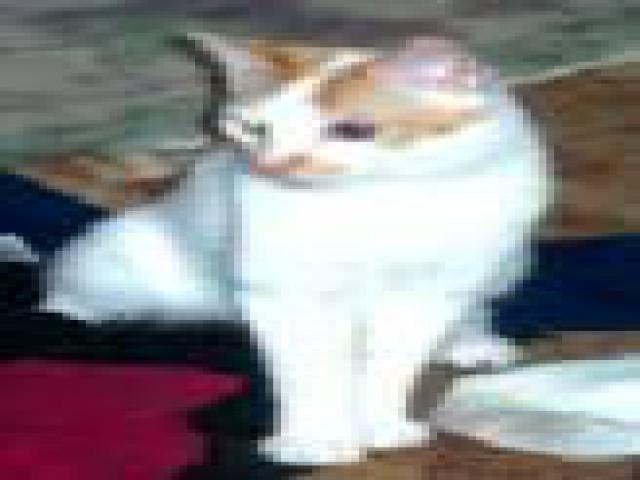cat: (40, 12, 571, 459)
